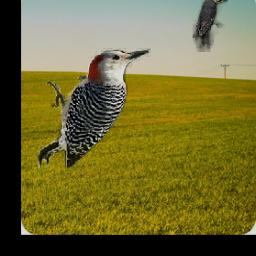Woodpecker: (39, 48, 151, 167), (193, 0, 228, 53)
